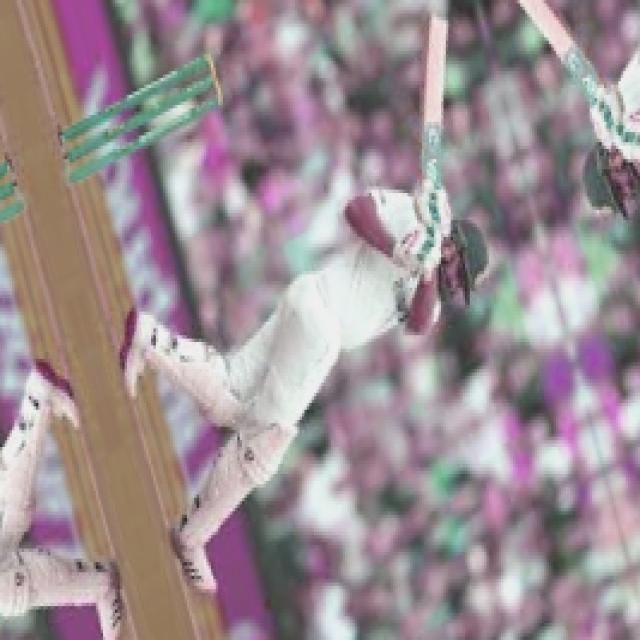toe: (423, 12, 454, 62)
